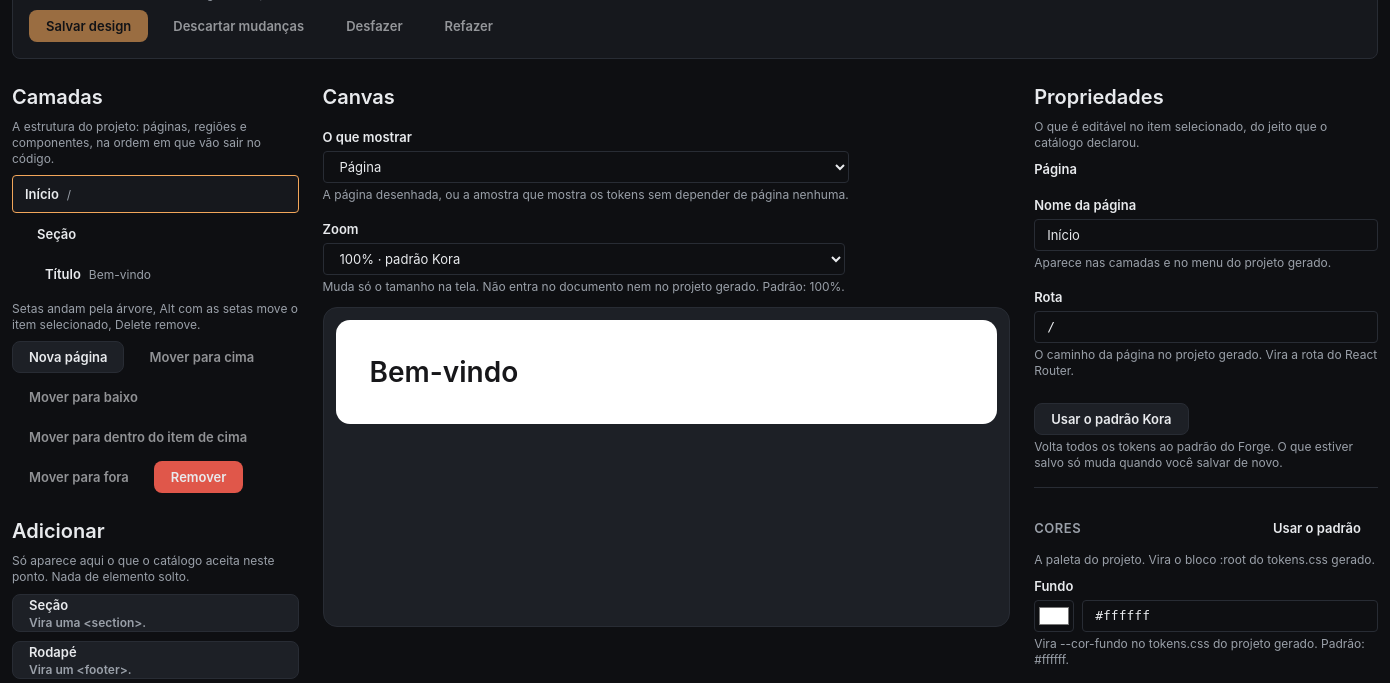
Test: montar a estrutura › clicar no canvas seleciona o nó, e o painel de propriedades acompanha
The image size is (1390, 683).
(page scrolled)
Click the heading "Bem-vindo": coordinates (444, 372) 370,355 -> 518,389
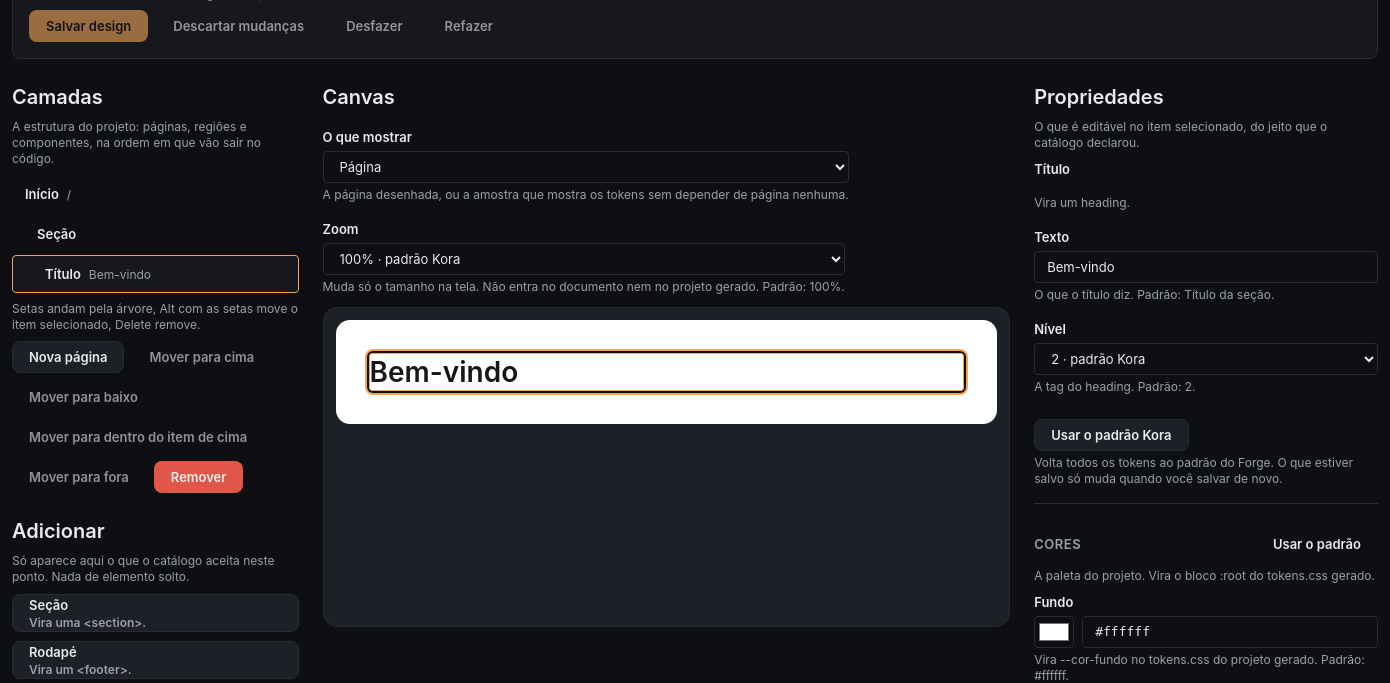
Check: the field labelled "Texto" holds "Bem-vindo", box 1034,251 -> 1378,283
